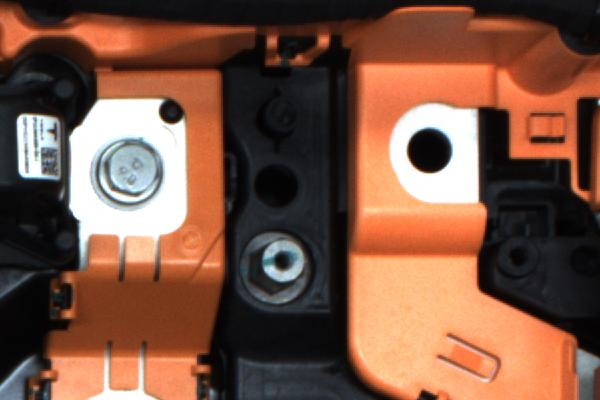nut_b: (87, 136, 175, 218)
